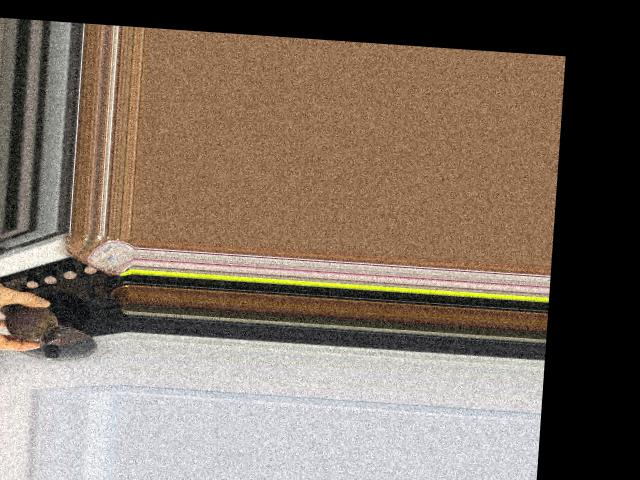beet: (0, 304, 64, 344)
